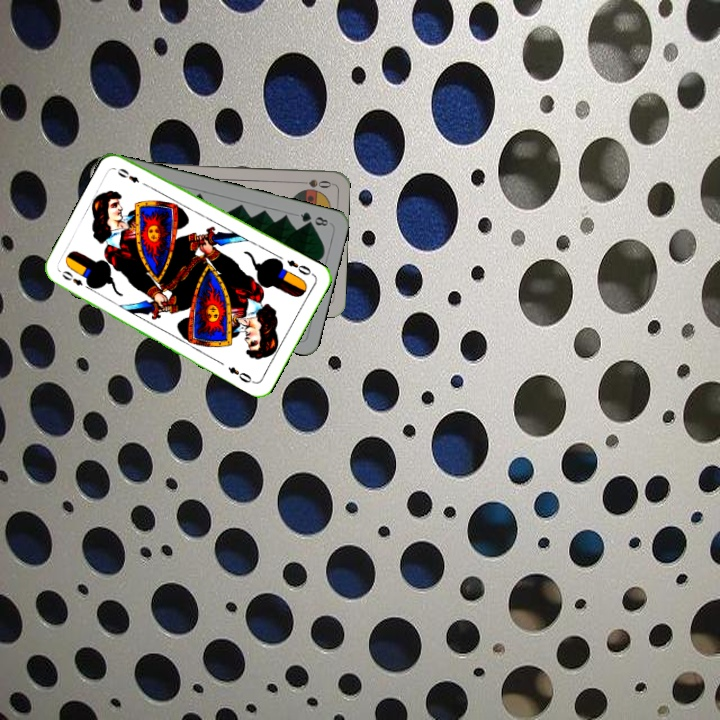EO: (58, 267, 94, 293), (283, 256, 314, 278)
G8: (296, 208, 331, 229)
SO: (293, 175, 334, 191)
